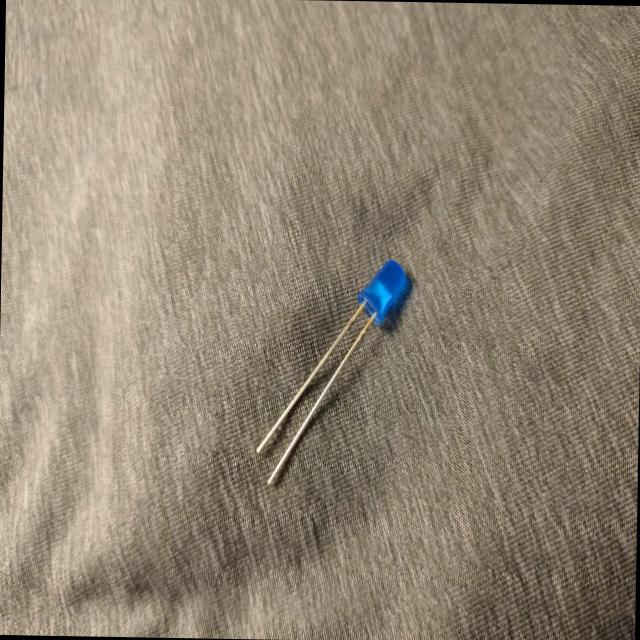blue_led: (244, 247, 411, 503)
